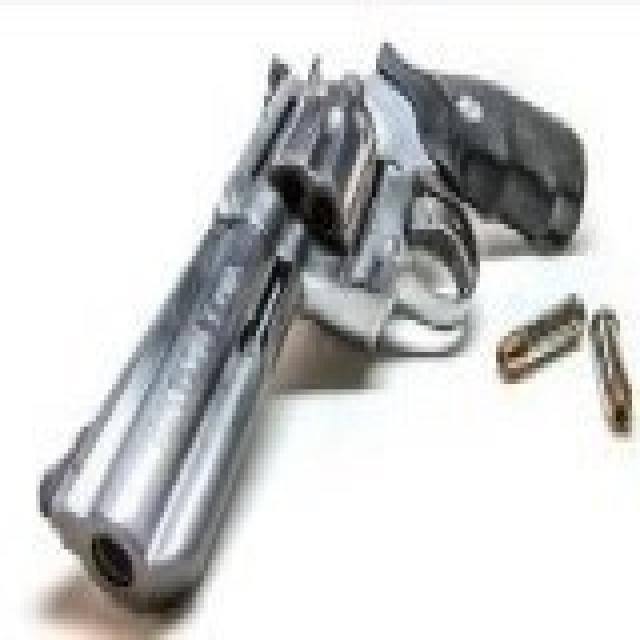Gun: (32, 34, 640, 570)
